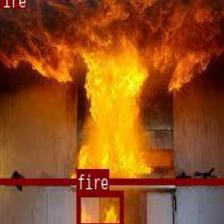fire: (0, 0, 224, 183), (75, 189, 122, 224)
